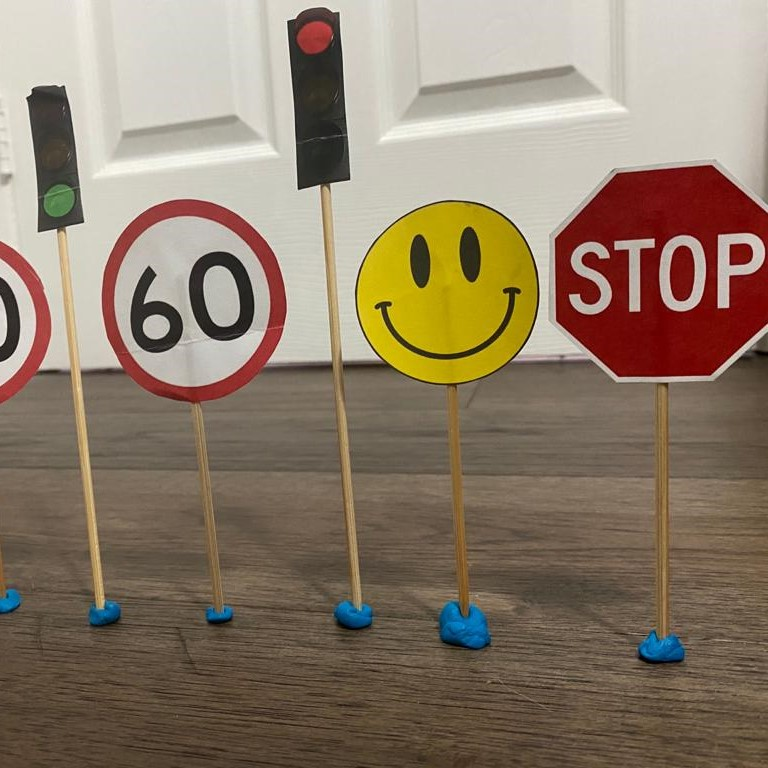Green Traffic Light: (20, 84, 87, 234)
Person: (354, 199, 541, 385)
Red Traffic Light: (287, 6, 355, 193)
Speed Limit 60: (100, 198, 289, 405)
Stop Sign: (547, 157, 768, 386)
